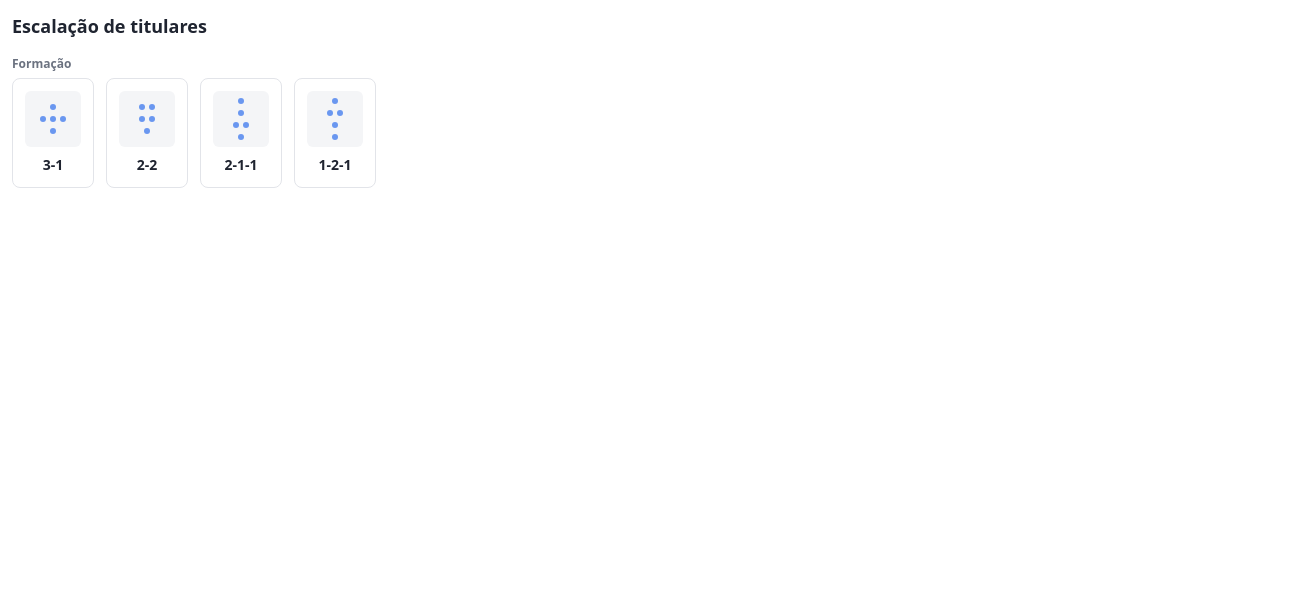
Test case: ClubLineup › recalcula as vagas ao trocar de formação
Click the radio button labelled "3-1" at (53, 133), box [12,78,94,188]
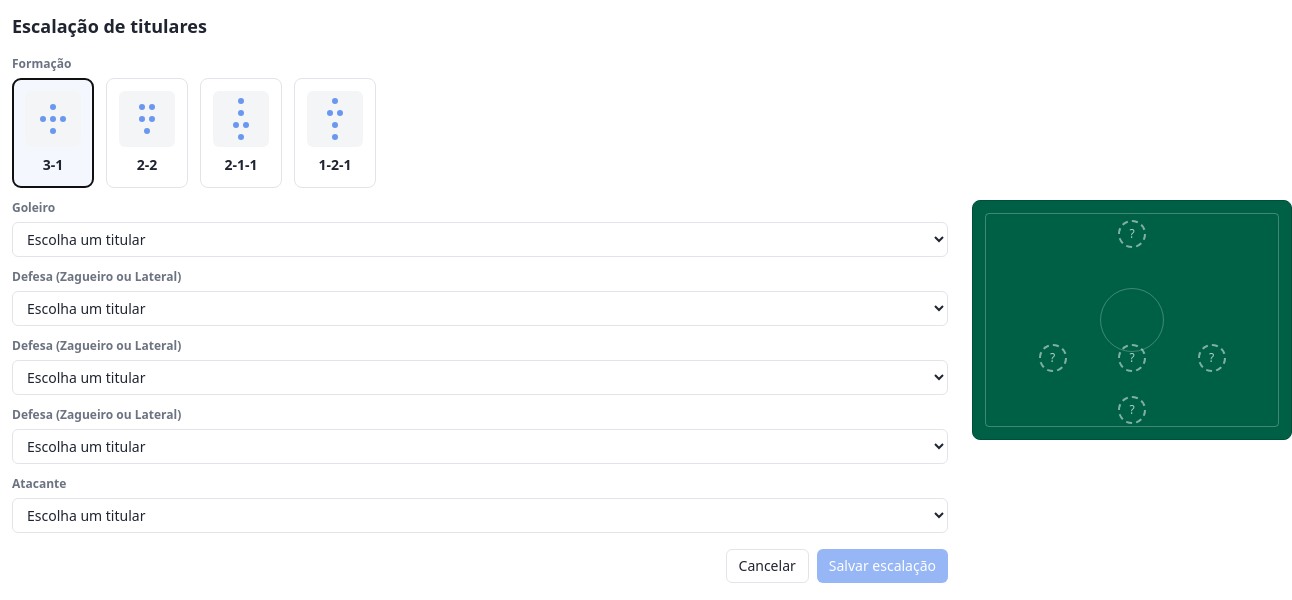
Expected: the field labelled "Meio-campo" is not shown
Result: the number of dropdowns labelled "Defesa (Zagueiro ou Lateral)" is 3 at [12,291,948,326]; [12,360,948,395]; [12,429,948,464]
Click the radio button labelled "1-2-1" at (335, 133), box [294,78,376,188]
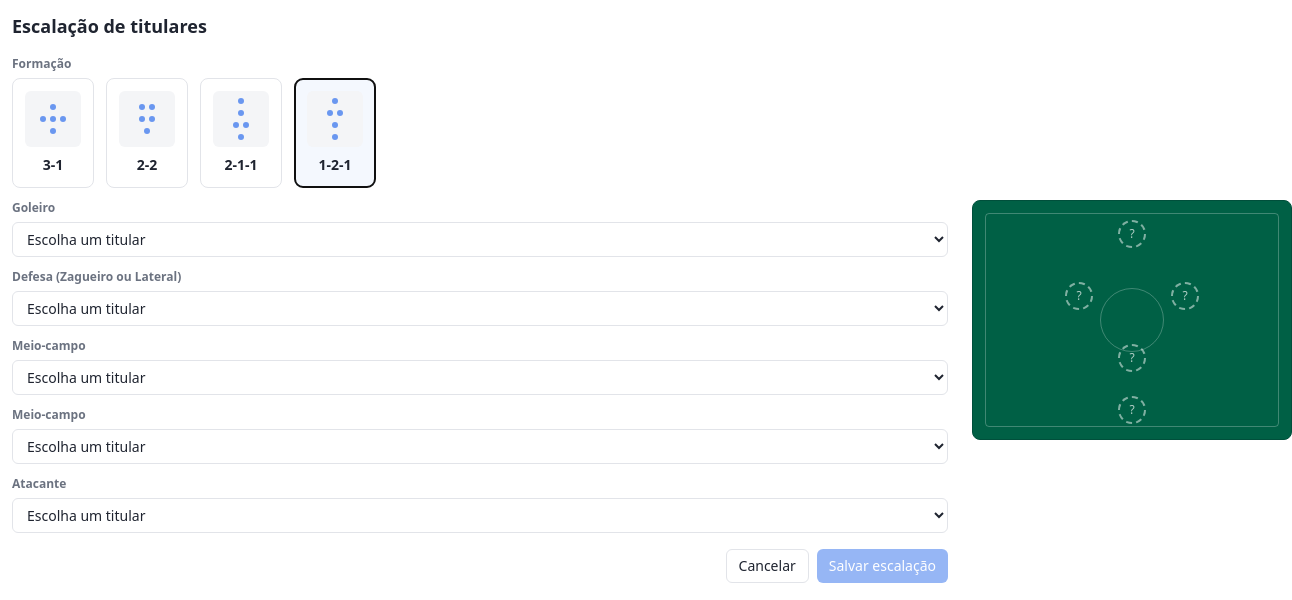
Result: the number of dropdowns labelled "Defesa (Zagueiro ou Lateral)" is 1 at [12,291,948,326]
Result: the number of dropdowns labelled "Meio-campo" is 2 at [12,360,948,395]; [12,429,948,464]
